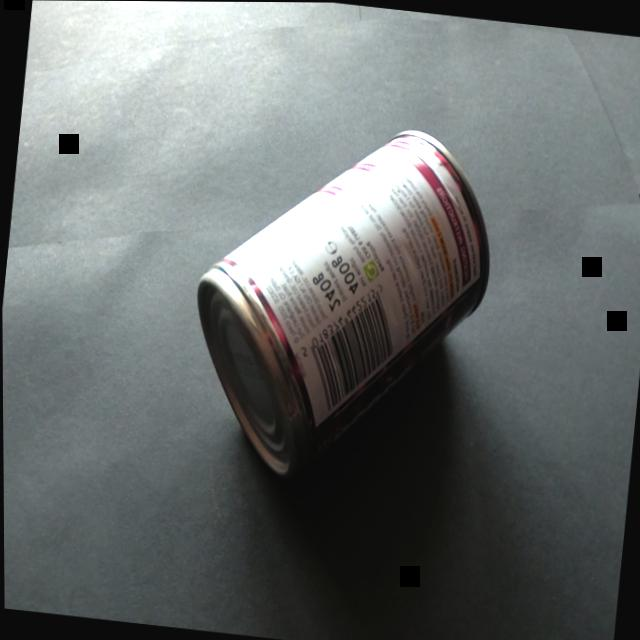Redbeans: (159, 89, 517, 527)
